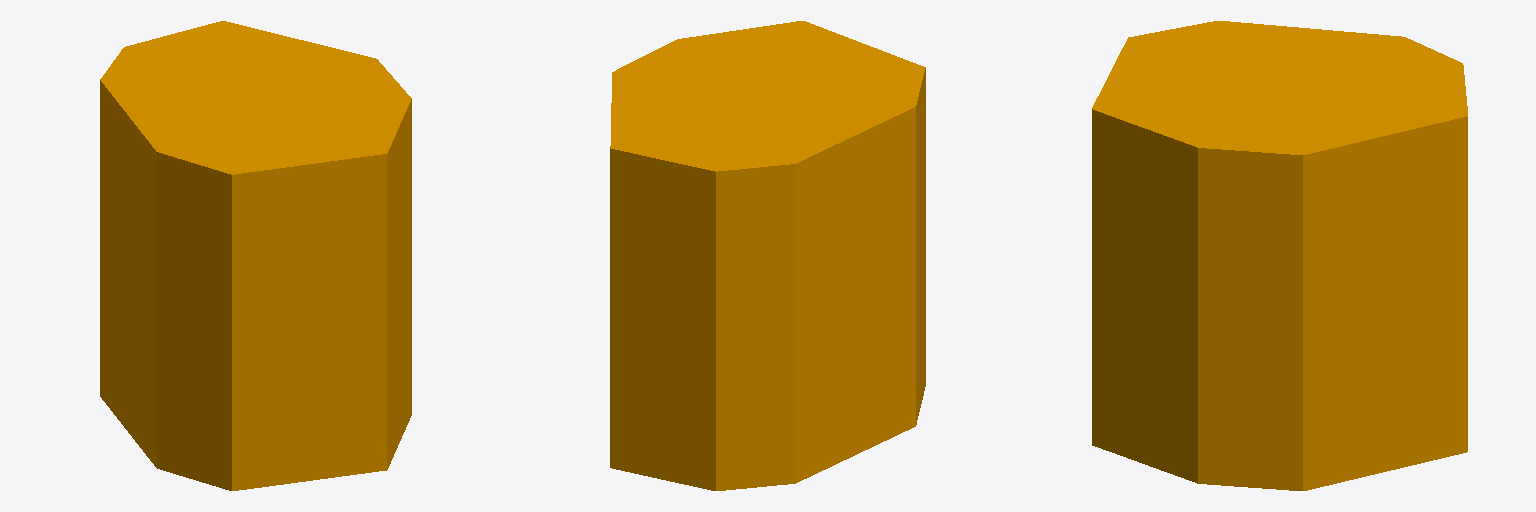
URDF robot description (object):
<?xml version="1.0"?>
<robot name="object">
  <link name="object">
    <visual>
      <origin xyz="0 0 0"/>
      <geometry>
        <mesh filename="meshes/generated/col_002.obj" scale="0.03 0.03 0.03"/>
      </geometry>
    </visual>
    <collision>
      <origin xyz="0 0 0"/>
      <geometry>
        <mesh filename="meshes/generated/col_002.obj" scale="0.03 0.03 0.03"/>
      </geometry>
    </collision>
    <inertial>
      <density value="1000.0"/>
    </inertial>
  </link>
</robot>

--- Facts derived from the render (not from the file) ---
Views: 3 orthographic renders of the robot side by side, from view 1: azimuth 30°, elevation 25°; view 2: azimuth 150°, elevation 25°; view 3: azimuth 270°, elevation 25°.
Robot: object — 1 links, 0 joints (none); root link object; default pose: every joint at zero.
Visible links, largest first — view 1: object; view 2: object; view 3: object.
Link boxes in pixels (bbox=[...]): object: bbox=[100, 21, 411, 490]; object: bbox=[610, 21, 925, 490]; object: bbox=[1092, 21, 1467, 490].
Bounding box of the posed robot: 0.0517 × 0.061 × 0.06 m (x, y, z).
1 mesh visuals loaded from 1 distinct referenced files (1 OBJ).
